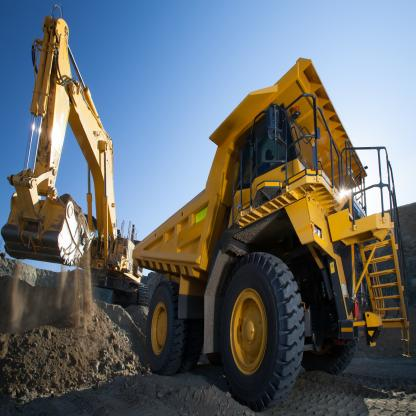dump_truck: (133, 50, 416, 406)
